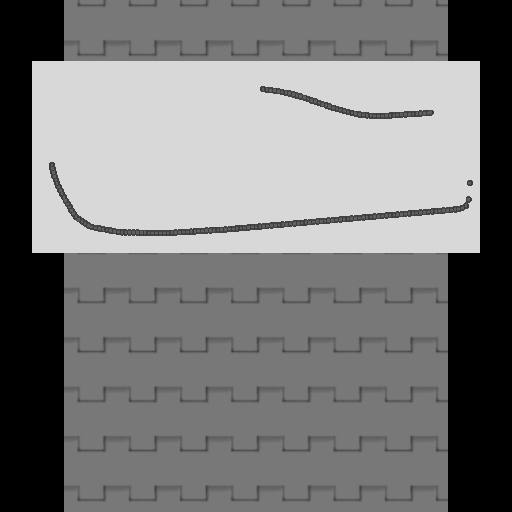Defect: (47, 82, 258, 160)
